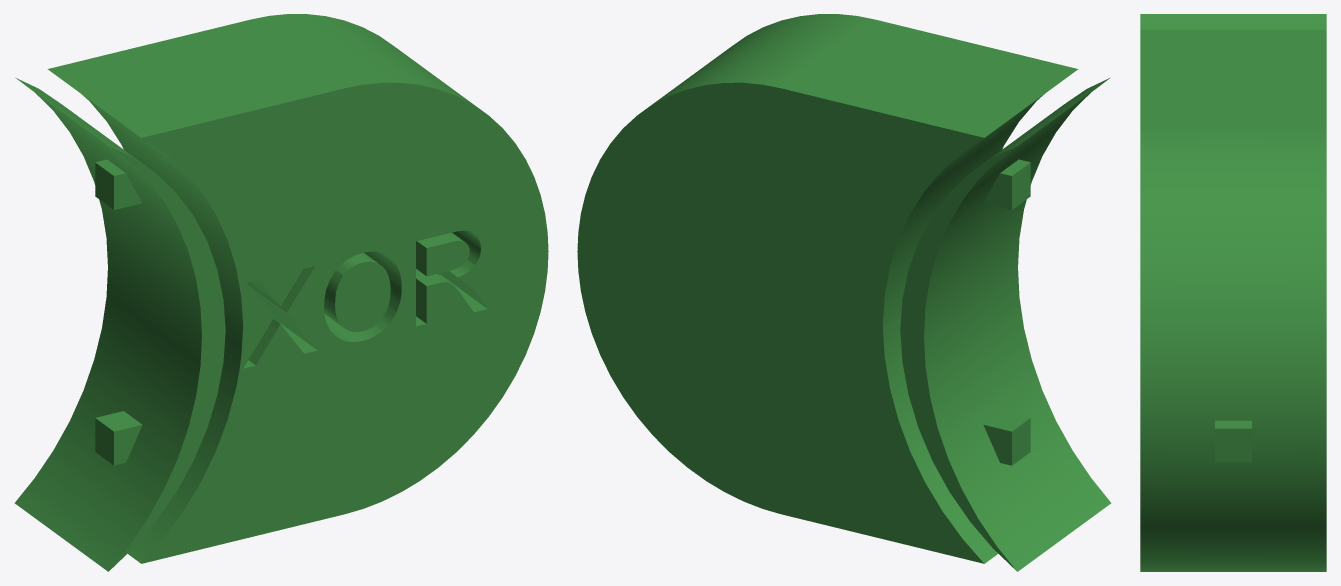
Rendered from xor+gate.fbx.
3 views of the same model, side by side, from view 1: azimuth 30°, elevation 25°; view 2: azimuth 150°, elevation 25°; view 3: azimuth 270°, elevation 25° (orthographic).
Parts seen in each view (by area): view 1: Body1; view 2: Body1; view 3: Body1.
Part boxes in pixels (box(x1,y1,x2,y2)): Body1: box(14, 14, 548, 571); Body1: box(577, 14, 1111, 571); Body1: box(1140, 14, 1326, 571).
Size of the model in its own units: 56.05 by 50 by 20.
